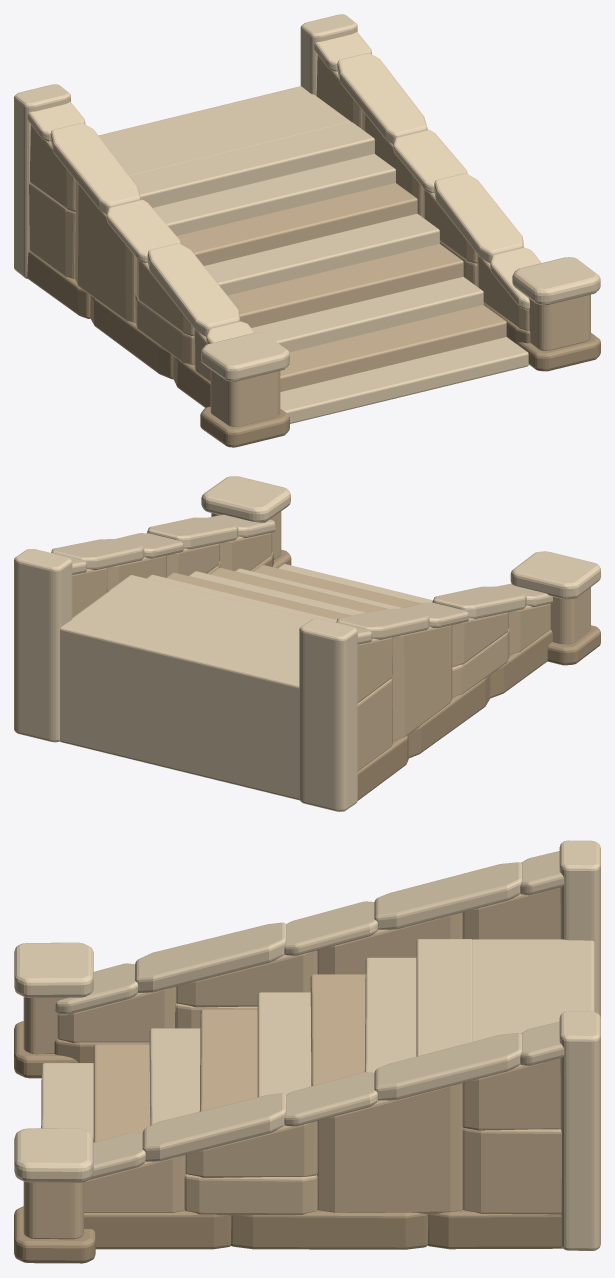
The model's file is KFB_TOWN_CASTLE_STAIRS_FORM_R3.glb.
3 renders of one model, top to bottom at view 1: azimuth 30°, elevation 25°; view 2: azimuth 150°, elevation 25°; view 3: azimuth 270°, elevation 25°, orthographic. The views are drawn at different scales.
Parts seen in each view (by area): view 1: Landing_endstone, Tread_08, Tread_04, Tread_01, Tread_02, Tread_06, Tread_05, Tread_07, Tread_03, WallTragstein_L_2, Crown_L_1, Crown_R_3 (+27 smaller); view 2: Landing_endstone, Upper_termination_L, Upper_termination_R, WallTragstein_L_2, Tread_08, Pillar_L_cap, Pillar_R_cap, WallLower_L_3, Foundation_L_1, Crown_L_1, WallUpper_L_1, Crown_R_1 (+24 smaller); view 3: WallTragstein_R_2, Landing_endstone, Upper_termination_R, WallLower_R_3, Foundation_R_1, Tread_08, WallUpper_R_3, Crown_L_1, Tread_06, Crown_R_1, Crown_R_3, Crown_L_3 (+30 smaller).
Boxes of the visible parts, bbox=[...] form: Landing_endstone: bbox=[98, 86, 350, 175]; Tread_08: bbox=[129, 122, 374, 207]; Tread_04: bbox=[227, 244, 463, 327]; Tread_01: bbox=[280, 337, 528, 423]; Tread_02: bbox=[280, 305, 506, 391]; Tread_06: bbox=[177, 183, 417, 265]; Tread_05: bbox=[204, 214, 439, 295]; Tread_07: bbox=[153, 154, 395, 235]; Tread_03: bbox=[251, 276, 483, 352]; WallTragstein_L_2: bbox=[75, 181, 136, 322]; Crown_L_1: bbox=[147, 243, 240, 336]; Crown_R_3: bbox=[337, 53, 427, 144]; Landing_endstone: bbox=[59, 591, 299, 800]; Upper_termination_L: bbox=[299, 618, 357, 811]; Upper_termination_R: bbox=[14, 549, 72, 742]; WallTragstein_L_2: bbox=[392, 625, 452, 740]; Tread_08: bbox=[108, 575, 311, 637]; Pillar_L_cap: bbox=[510, 551, 600, 599]; Pillar_R_cap: bbox=[201, 476, 290, 522]; WallLower_L_3: bbox=[357, 676, 392, 771]; Foundation_L_1: bbox=[408, 675, 490, 758]; Crown_L_1: bbox=[432, 586, 526, 618]; WallUpper_L_1: bbox=[452, 612, 509, 667]; Crown_R_1: bbox=[147, 517, 238, 549]; WallTragstein_R_2: bbox=[317, 1083, 462, 1214]; Landing_endstone: bbox=[472, 939, 594, 1041]; Upper_termination_R: bbox=[559, 1011, 600, 1250]; WallLower_R_3: bbox=[462, 1128, 561, 1214]; Foundation_R_1: bbox=[231, 1210, 428, 1249]; Tread_08: bbox=[416, 939, 472, 1056]; WallUpper_R_3: bbox=[462, 1058, 560, 1130]; Crown_L_1: bbox=[135, 922, 286, 992]; Tread_06: bbox=[310, 974, 365, 1086]; Crown_R_1: bbox=[142, 1093, 286, 1161]; Crown_R_3: bbox=[374, 1033, 522, 1100]; Crown_L_3: bbox=[374, 862, 522, 929].
Size of the model in its own units: 17.36 by 7.72 by 19.13.
